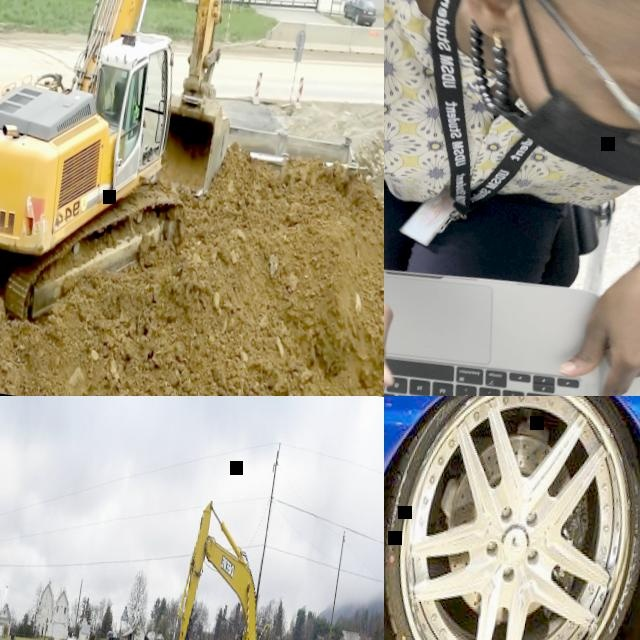Mask: (468, 10, 640, 206)
NO-Safety Vest: (384, 0, 640, 228)
Person: (384, 0, 640, 396), (122, 82, 143, 137)
Safety Vest: (131, 96, 140, 116)
machinery: (0, 0, 272, 345), (133, 488, 315, 640)
vehicle: (384, 396, 640, 640), (341, 0, 378, 30)
